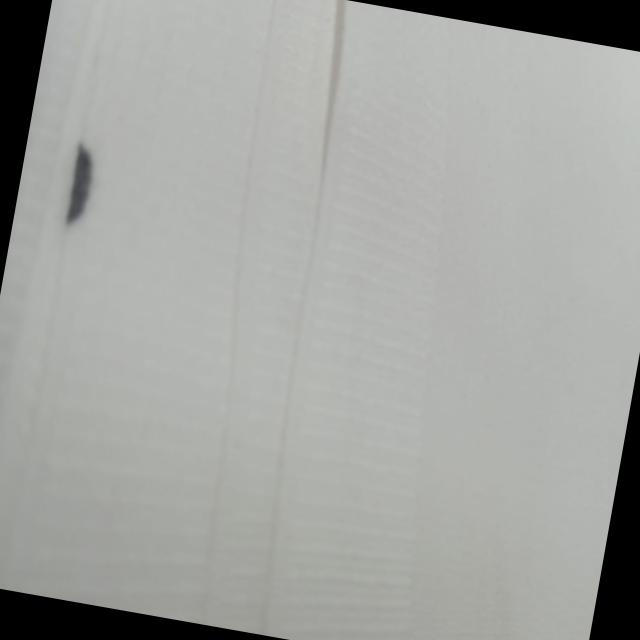stain: (58, 125, 104, 239)
